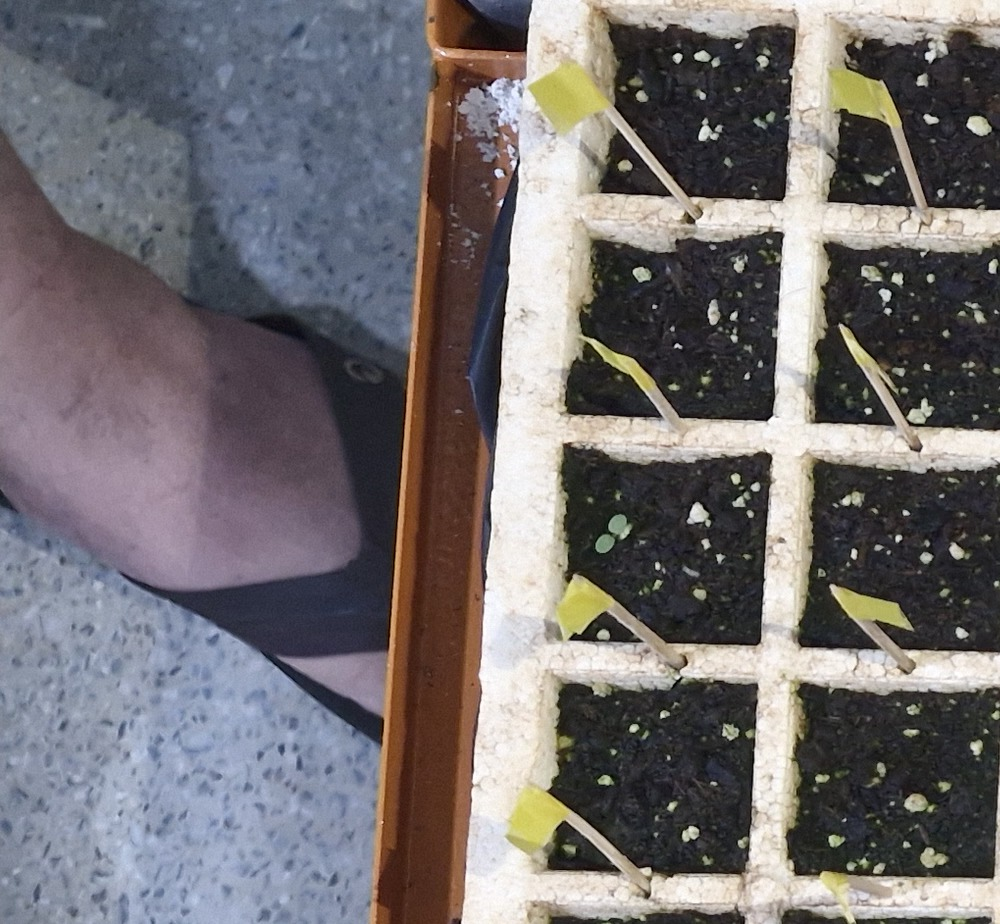Folha: (596, 534, 615, 553), (609, 514, 627, 533)
Germinacao: (594, 514, 627, 553)
